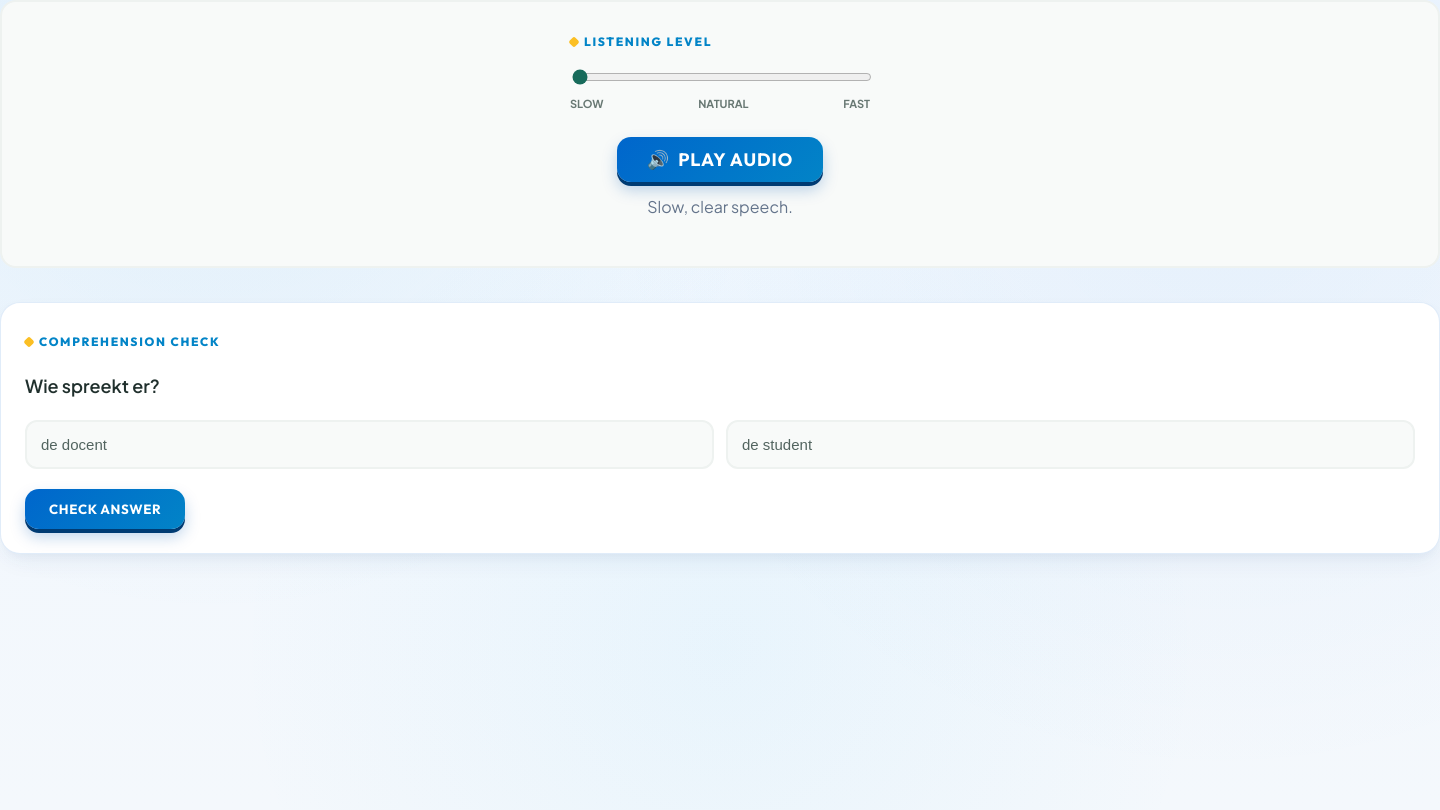
Test: ListeningLadder › changes the speed hint and noise overlay with the difficulty level
Set the slider labelled "Listening Level Slow Natural Fast" to "5" at (864, 77), box [572,69,872,85]
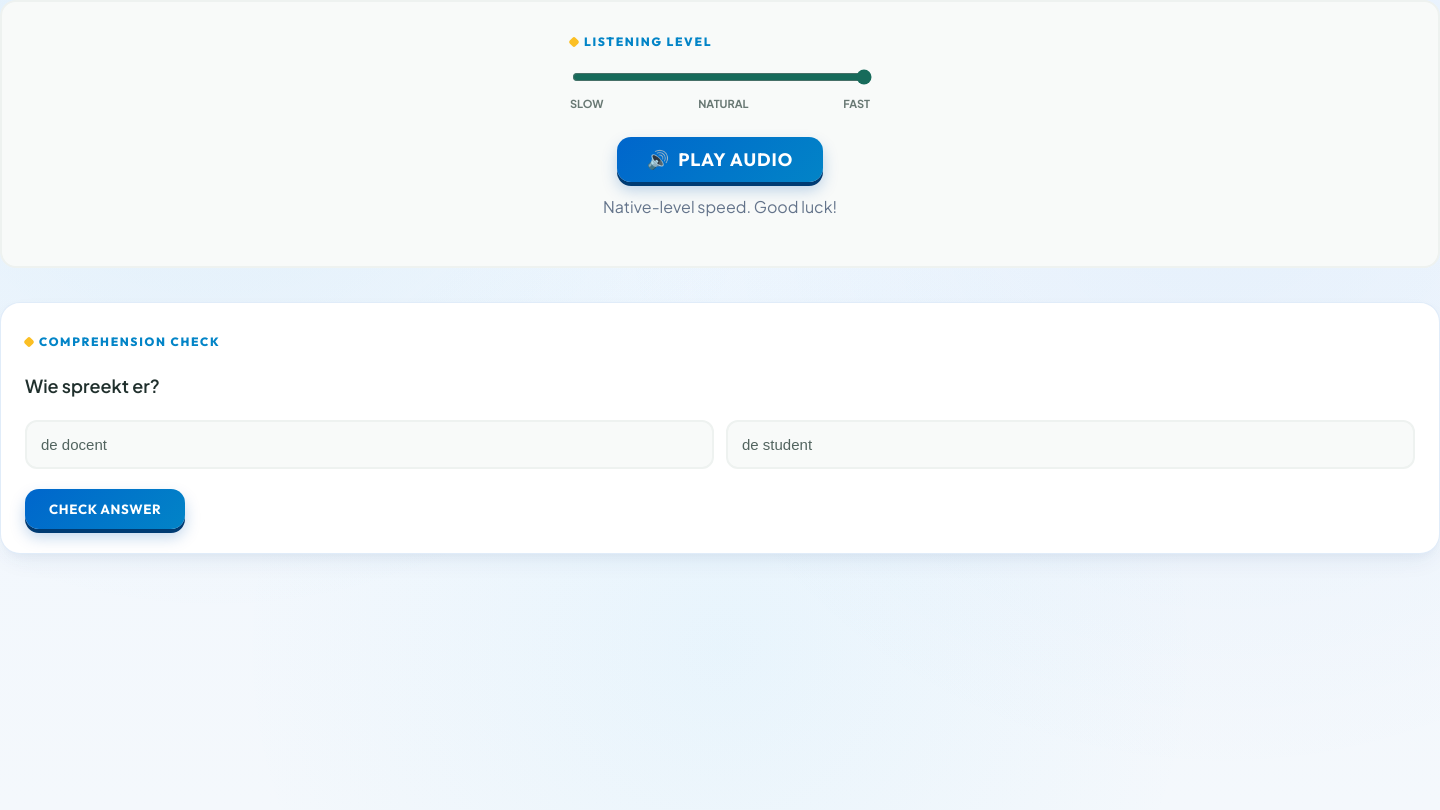
expect the text "Native-level speed. Good luck!" is shown: met, box [603,196,837,217]
expect the element with class "noise-overlay" is shown: met
Set the slider labelled "Listening Level Slow Natural Fast" to "3" at (722, 77), box [572,69,872,85]
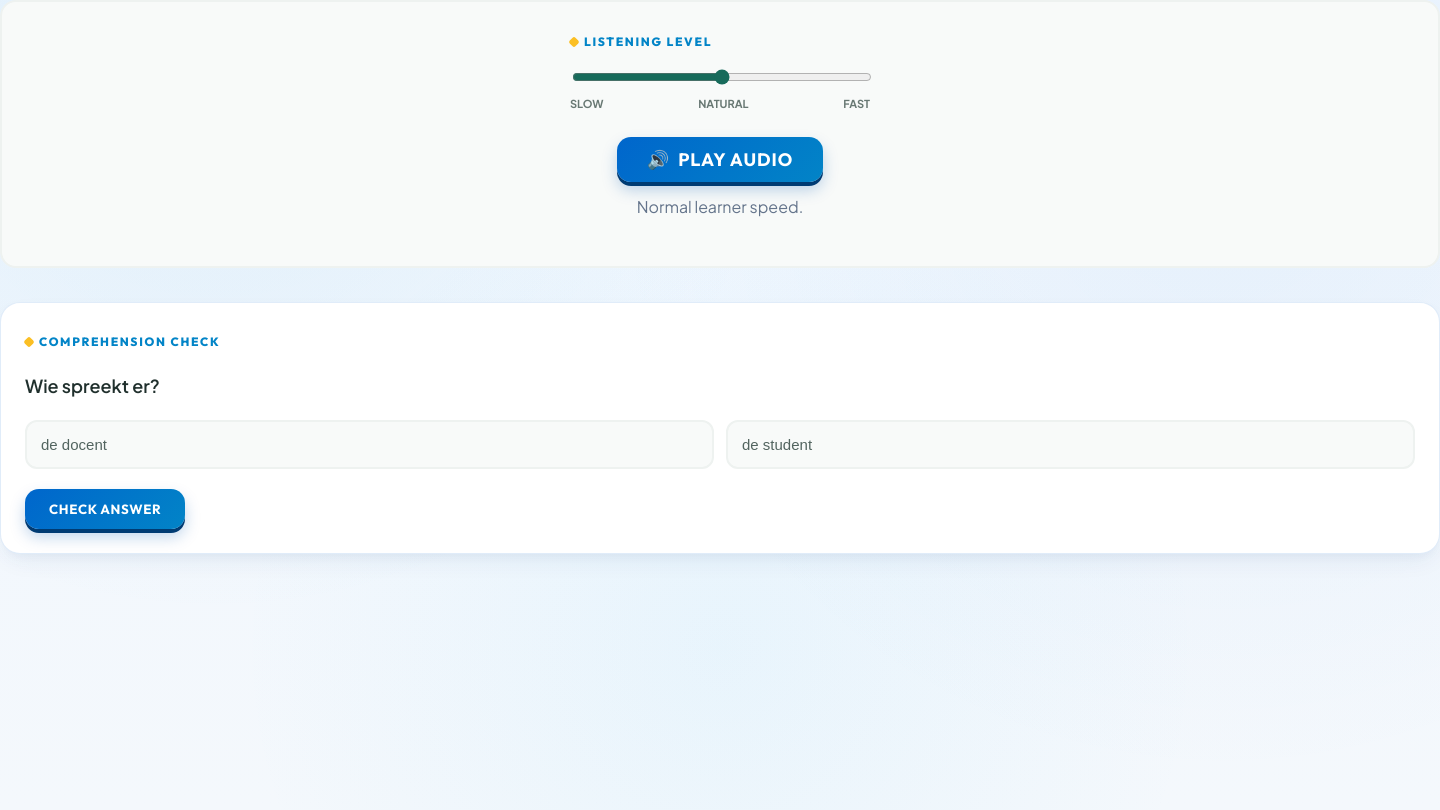
expect the text "Normal learner speed." is shown: met, box [637,196,803,217]
